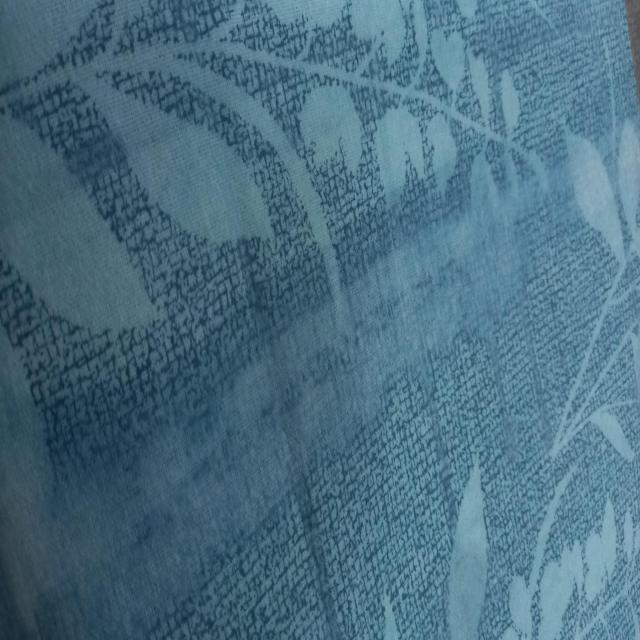baekra: (2, 102, 640, 636)
